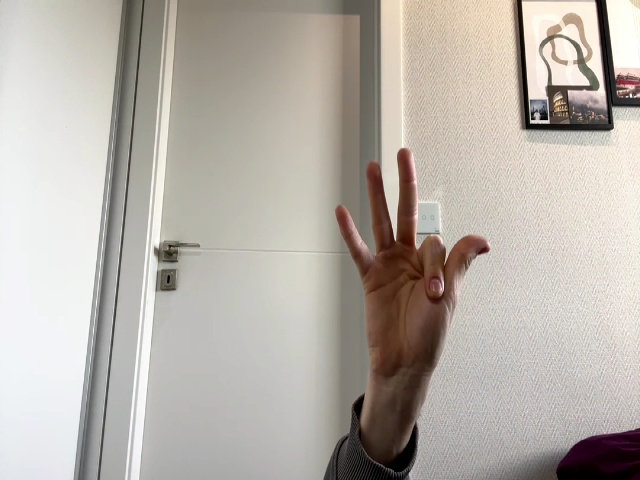F: (336, 149, 491, 369)
